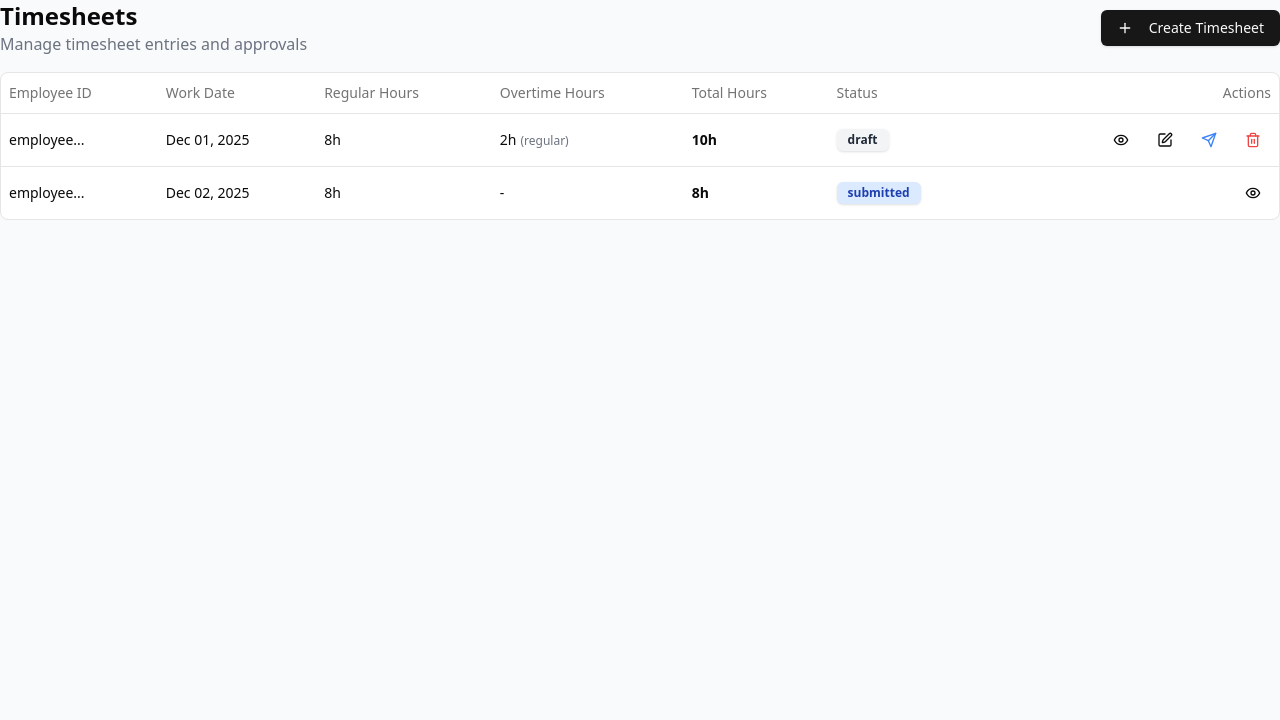
Test: TimesheetList › should cancel delete dialog
Expected: the text "draft" is shown, [837,128,888,150]
Click the button titled "Delete" at x=1253, y=140, box [1235,122,1271,158]
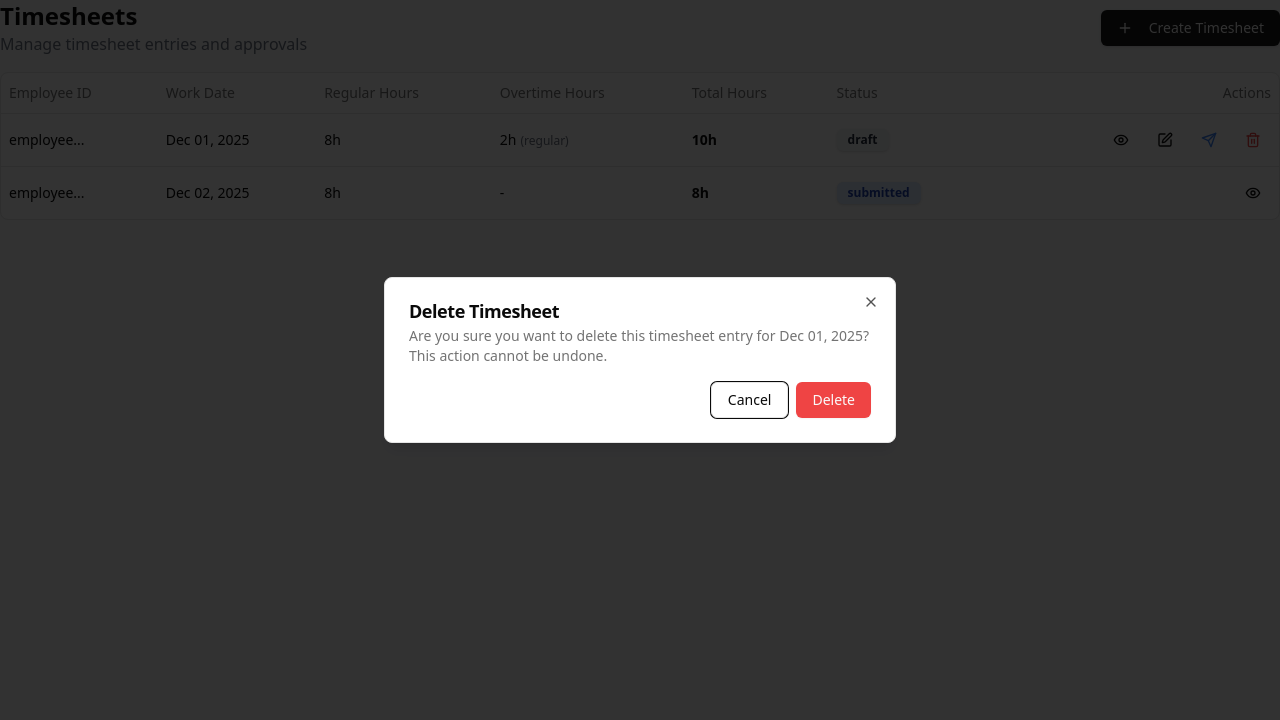
Expected: the heading "Delete Timesheet" is shown, [409,299,559,323]
Click the button "Cancel" at x=750, y=400, box [711,382,788,418]
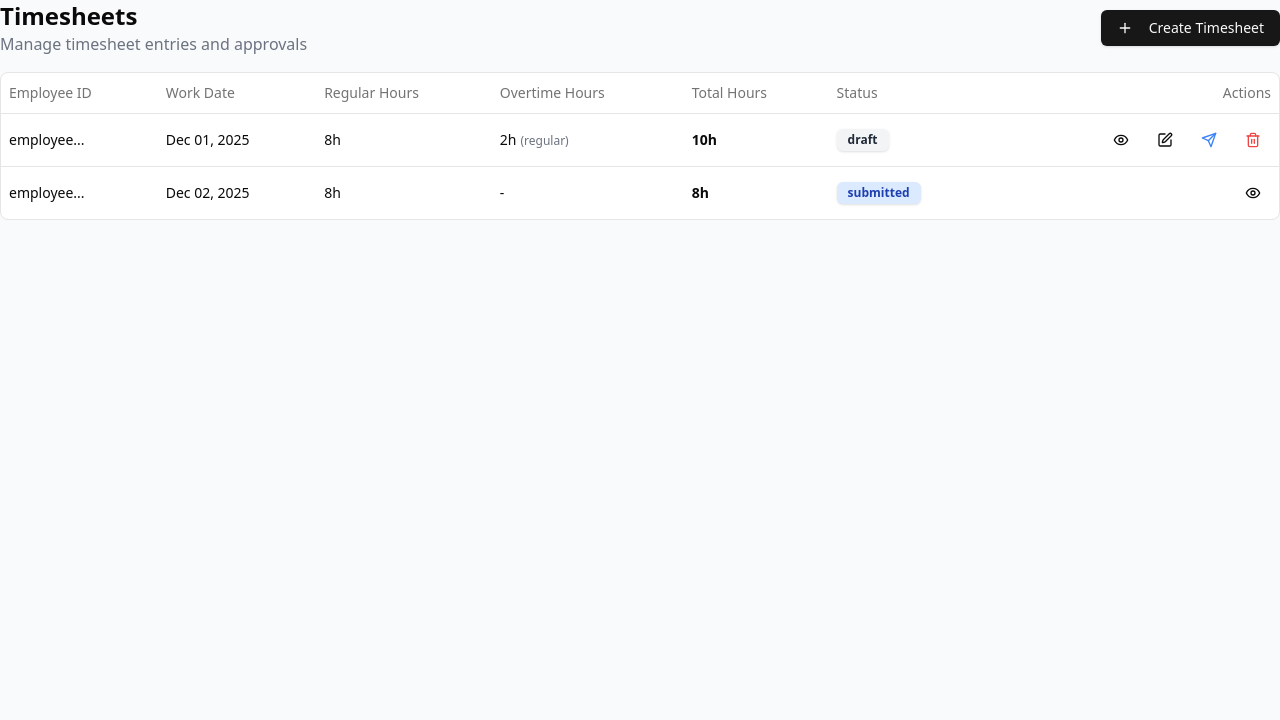
Expected: the heading "Delete Timesheet" is gone
